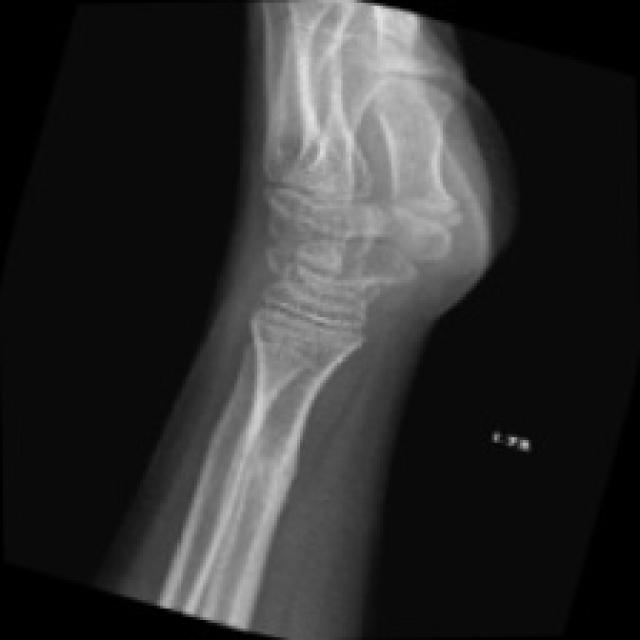fracture: (224, 406, 330, 507)
